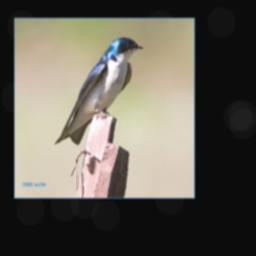Swallow: (53, 37, 144, 147)
